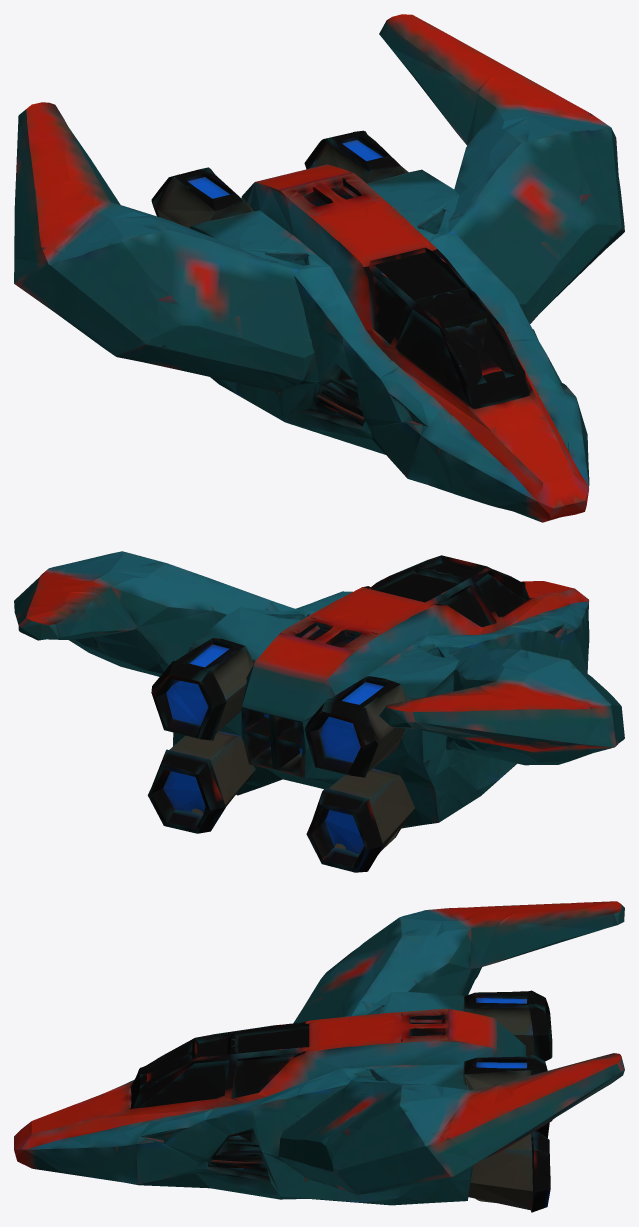
3 views of the same model, one above another, from view 1: azimuth 30°, elevation 25°; view 2: azimuth 150°, elevation 25°; view 3: azimuth 270°, elevation 25° (orthographic). The views are drawn at different scales.
Size of the model in its own units: 1 by 0.3602 by 1.03.
1 material, 1 textured.
